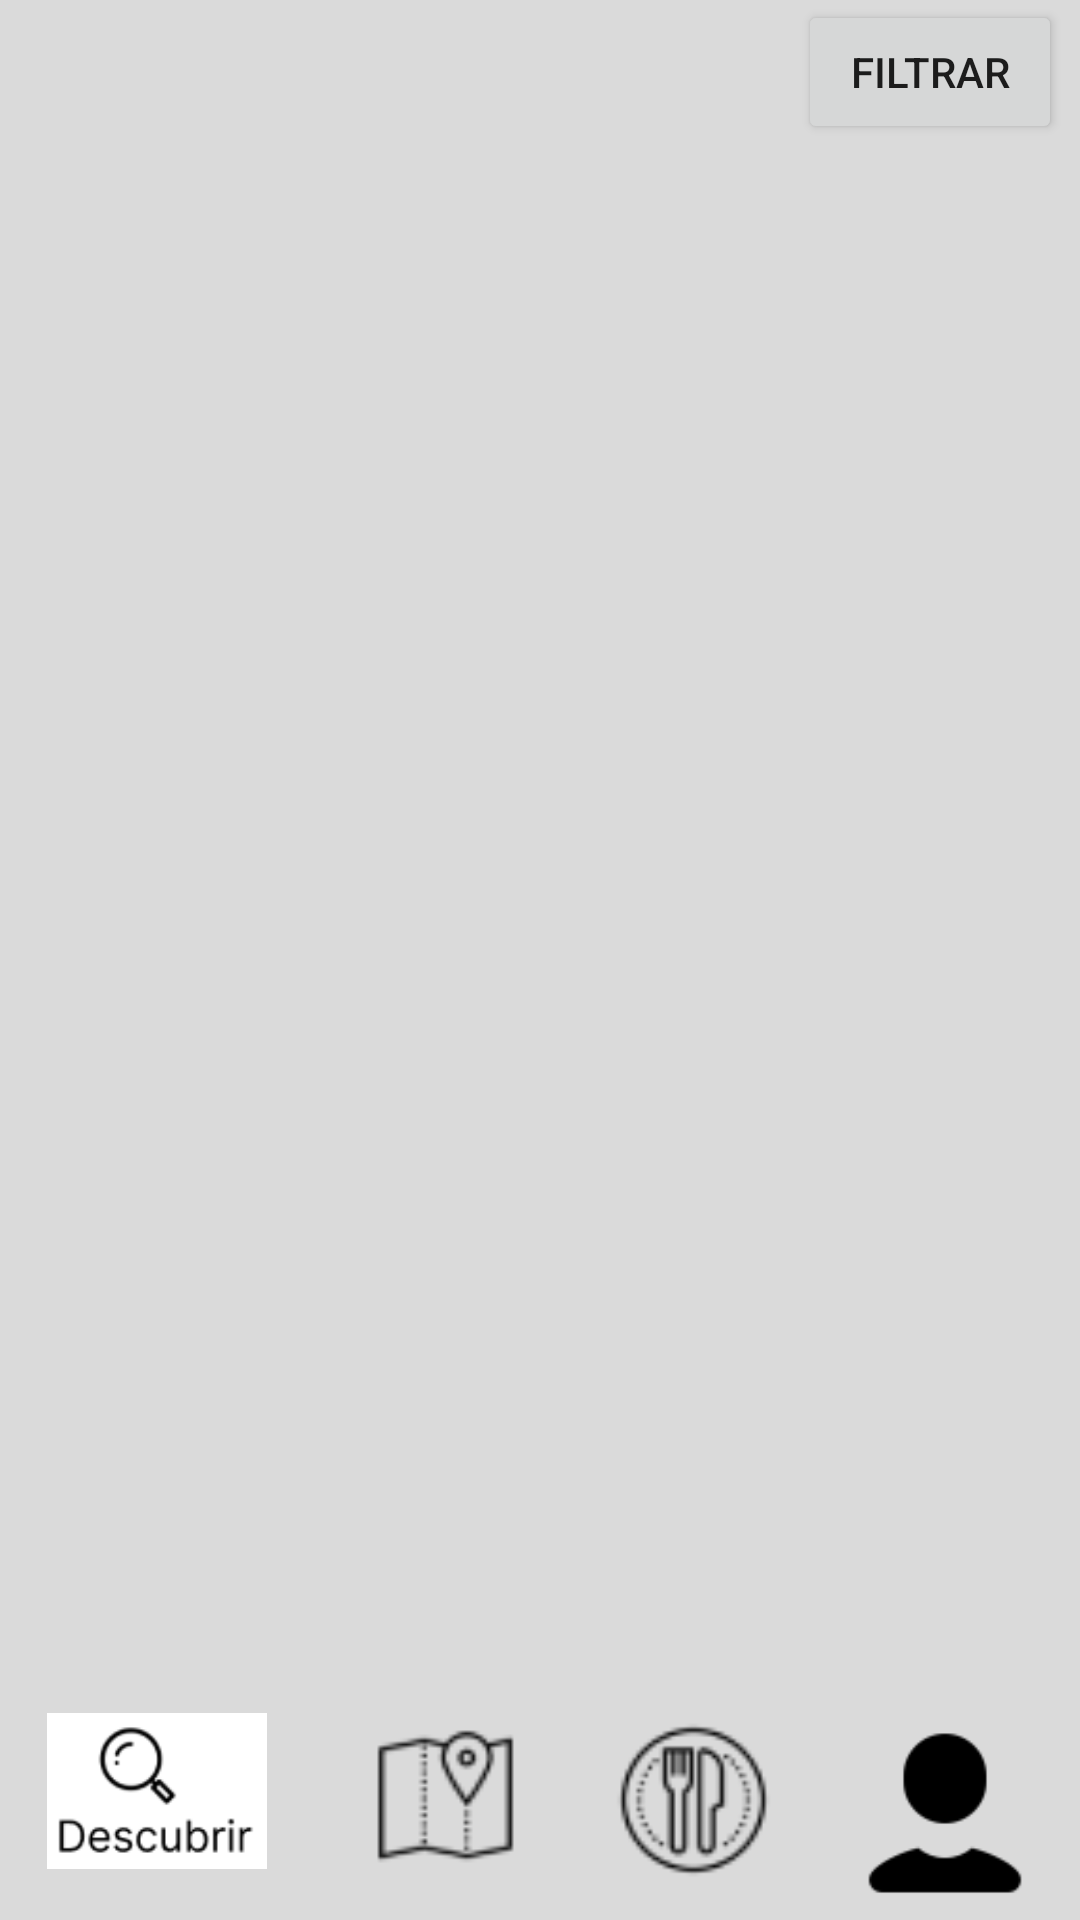

Icon bounding boxes for this 1080 x 1920 phone screenshot, format [x1=x1, y1=y1, x2=x2, y2=y2]:
mapa: [x1=377, y1=1730, x2=514, y2=1861]
plato: [x1=620, y1=1726, x2=767, y2=1874]
user: [x1=868, y1=1733, x2=1022, y2=1893]
